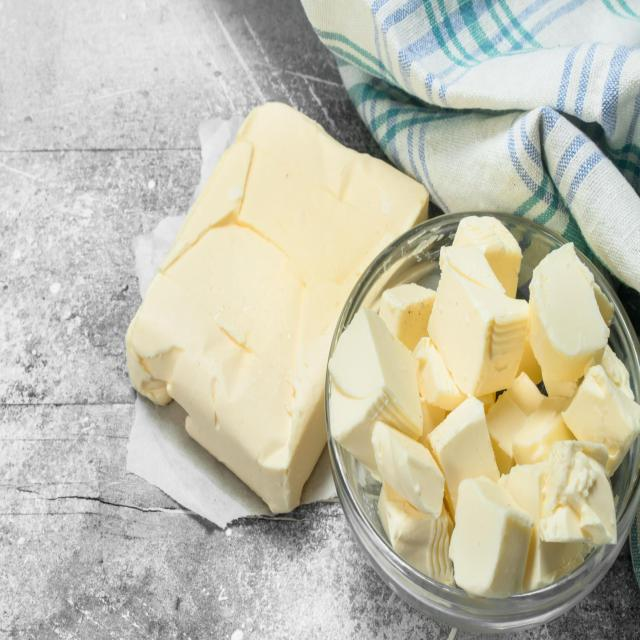butter: (123, 100, 431, 514), (325, 214, 639, 598)
